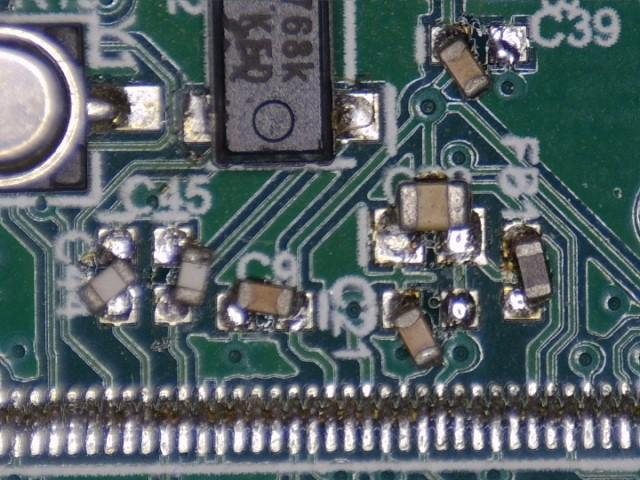pcb_defect: (373, 180, 489, 266), (382, 289, 480, 368), (430, 24, 530, 99), (73, 226, 142, 326), (152, 225, 215, 327), (501, 223, 554, 322), (216, 281, 314, 332)
